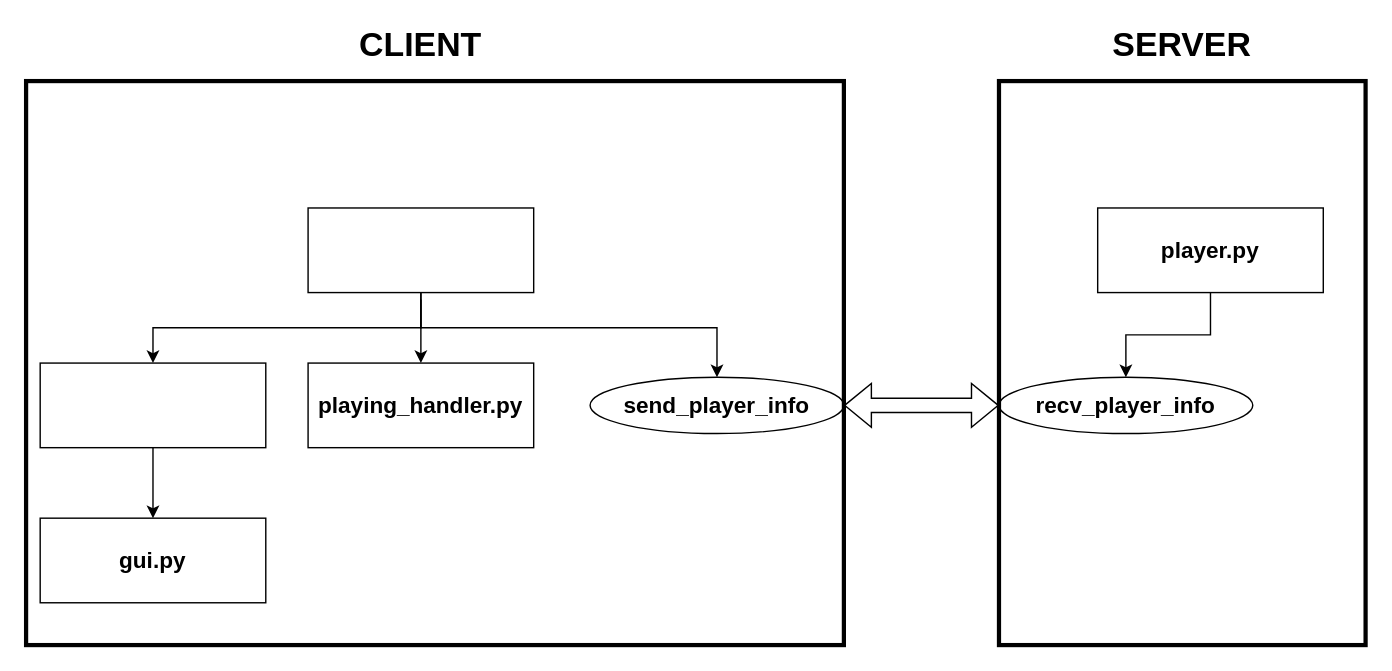
Image size: 1392x671. Some labels were removed from this diagram. The box of each missing label's shape, as (x1, y1, x2, y2) in pixels:
interface.py: (39, 362, 266, 448)
myclient.py: (307, 207, 534, 293)
